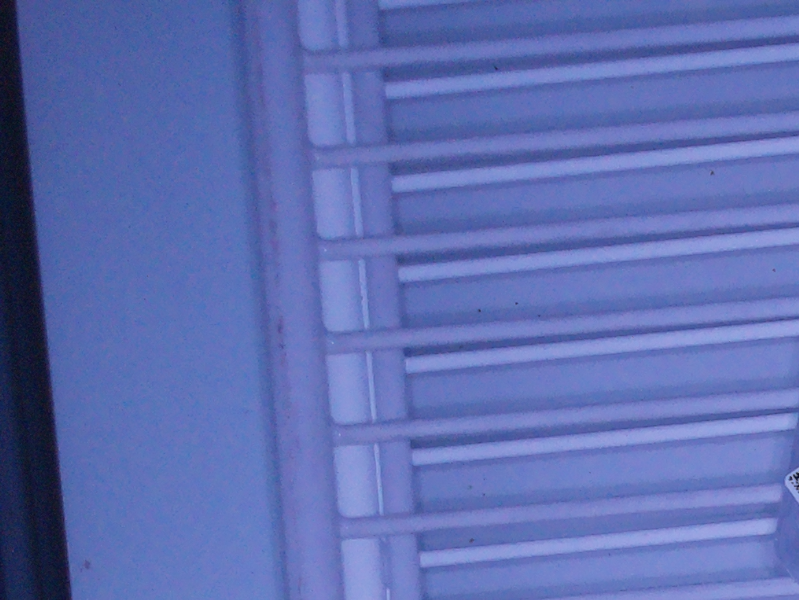plate: (772, 456, 799, 583)
